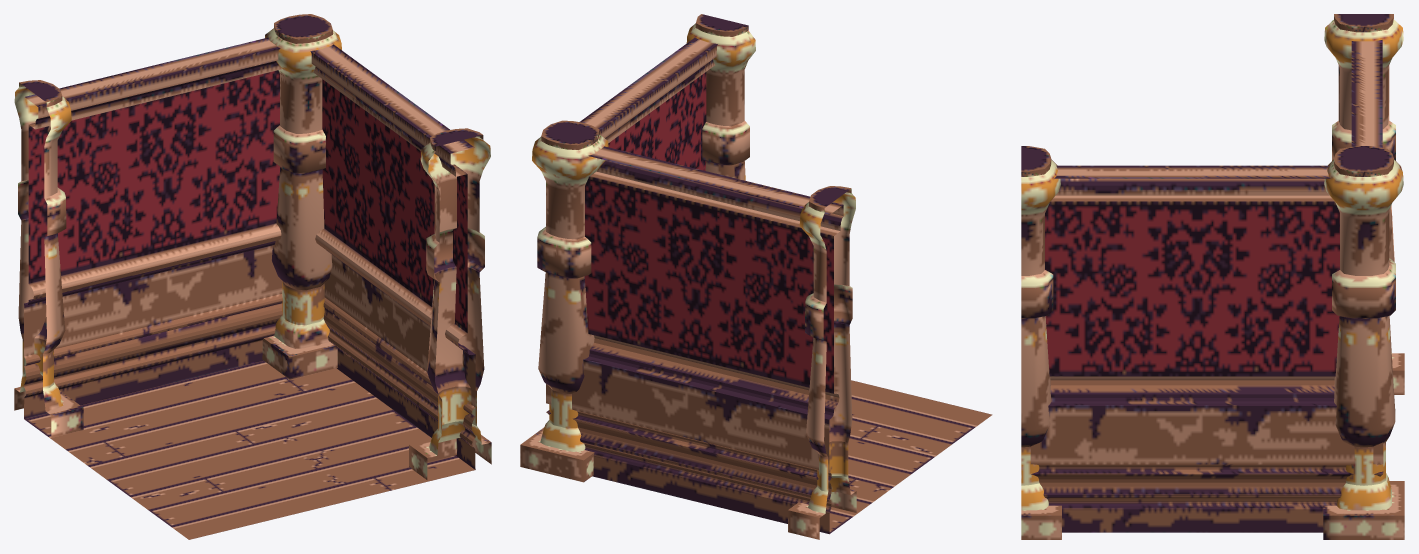
The model's file is tile_corner_v1.fbx.
3 views of the same model, side by side, from view 1: azimuth 30°, elevation 25°; view 2: azimuth 150°, elevation 25°; view 3: azimuth 270°, elevation 25° (orthographic). The views are drawn at different scales.
Parts seen in each view (by area): view 1: tile_corner_v1.001; view 2: tile_corner_v1.001; view 3: tile_corner_v1.001.
Boxes of the visible parts, <box> form: tile_corner_v1.001: <box>14,14,491,539</box>; tile_corner_v1.001: <box>520,14,992,539</box>; tile_corner_v1.001: <box>1021,14,1404,539</box>.
Size of the model in its own units: 190 by 200 by 190.
